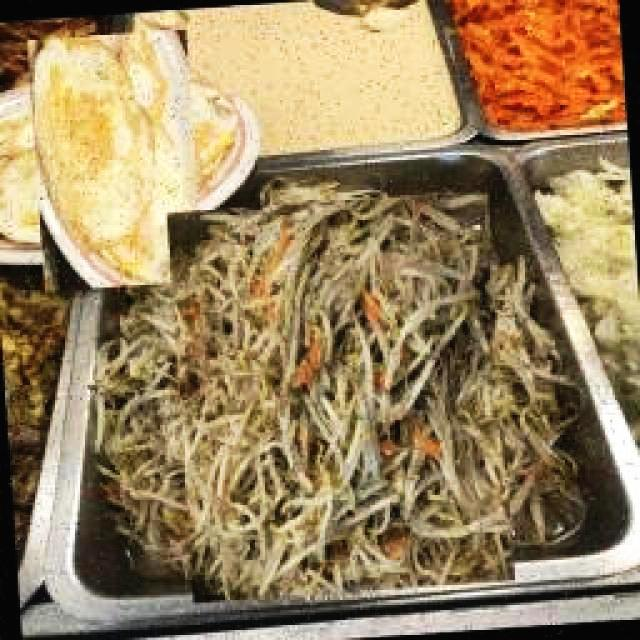carrot_eggs: (446, 1, 627, 134)
fried_eggs: (22, 18, 260, 285)
mung_bean_sprouts: (90, 170, 594, 601)
